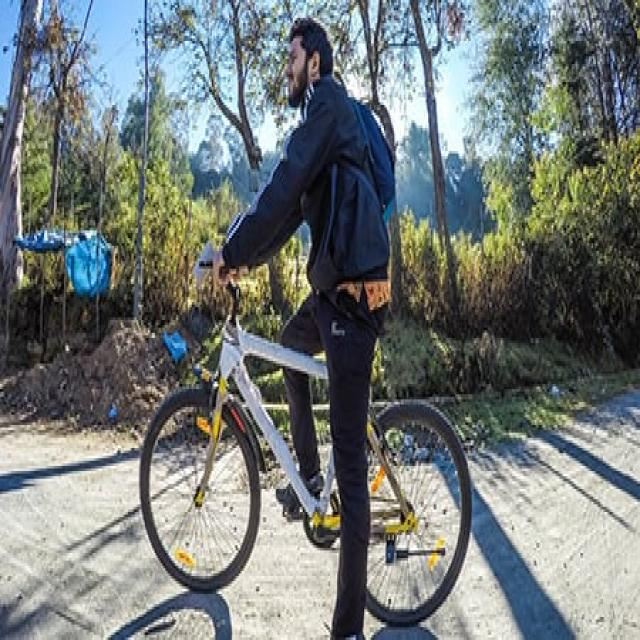bicycle: (140, 18, 470, 638)
